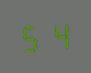five: (19, 21, 44, 53)
four: (45, 20, 70, 51)
